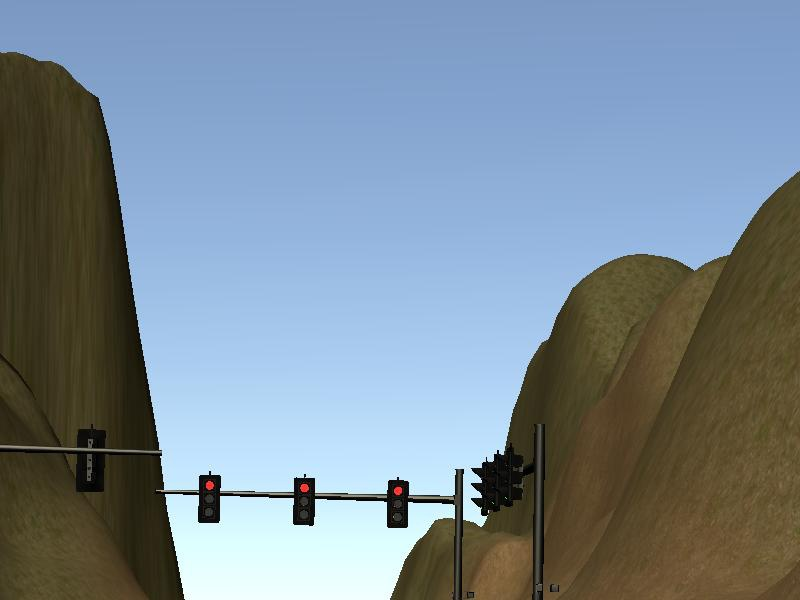Red: (196, 471, 223, 527), (384, 476, 411, 531), (291, 475, 318, 527)
